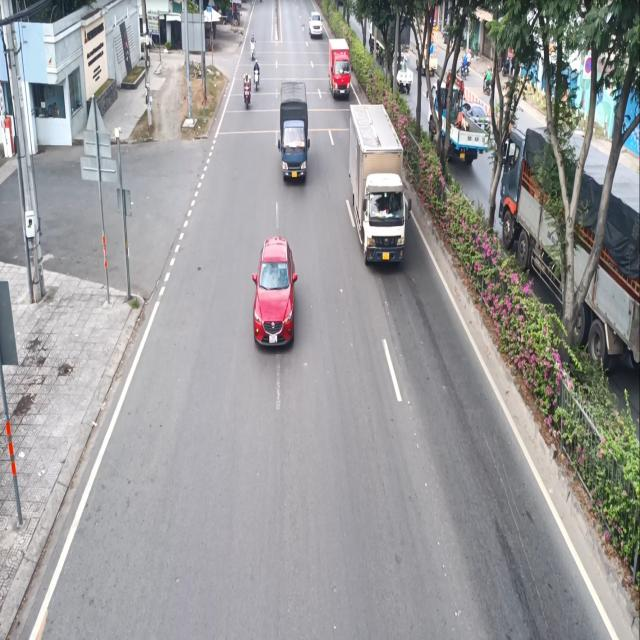car: (250, 225, 301, 364)
motor: (239, 66, 251, 105)
truck: (346, 103, 406, 268), (277, 76, 309, 190), (326, 36, 356, 106)
